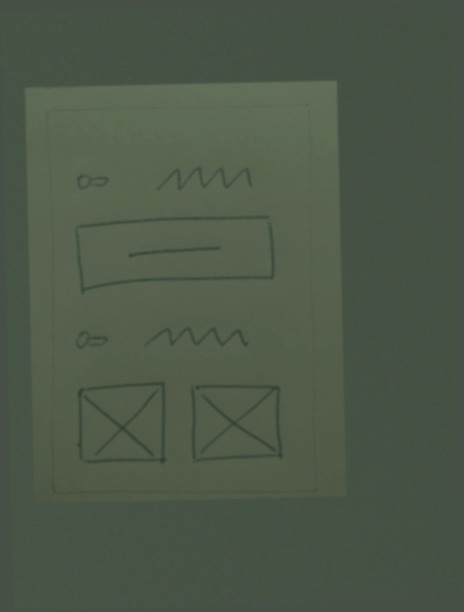button: (70, 212, 285, 298)
image: (180, 378, 294, 473), (73, 376, 173, 471)
switch: (68, 163, 121, 198), (67, 323, 115, 356)
text: (134, 319, 263, 358), (149, 159, 262, 196)
